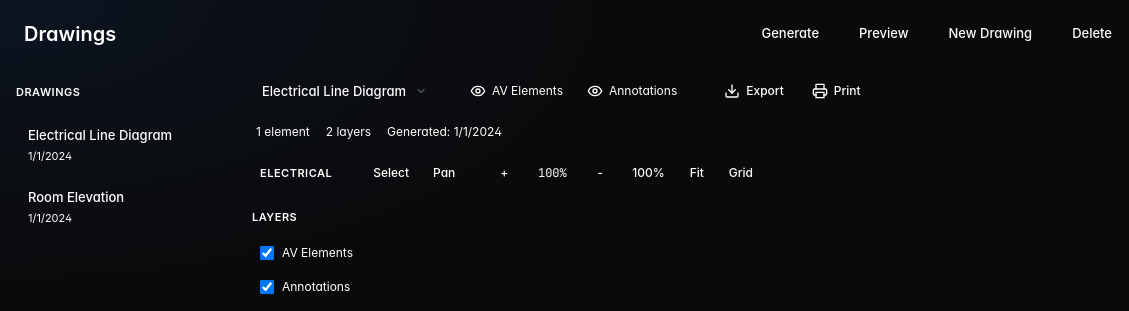
Test: DrawingsPage › Preview Mode › hides editing controls in preview mode
Click the button "Preview" at x=884, y=34, box [843, 16, 924, 52]
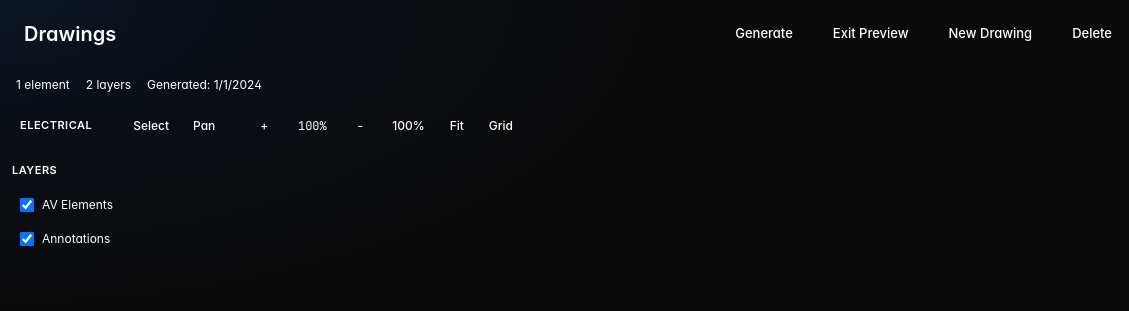
Expected: the element "drawing toolbar" is gone
